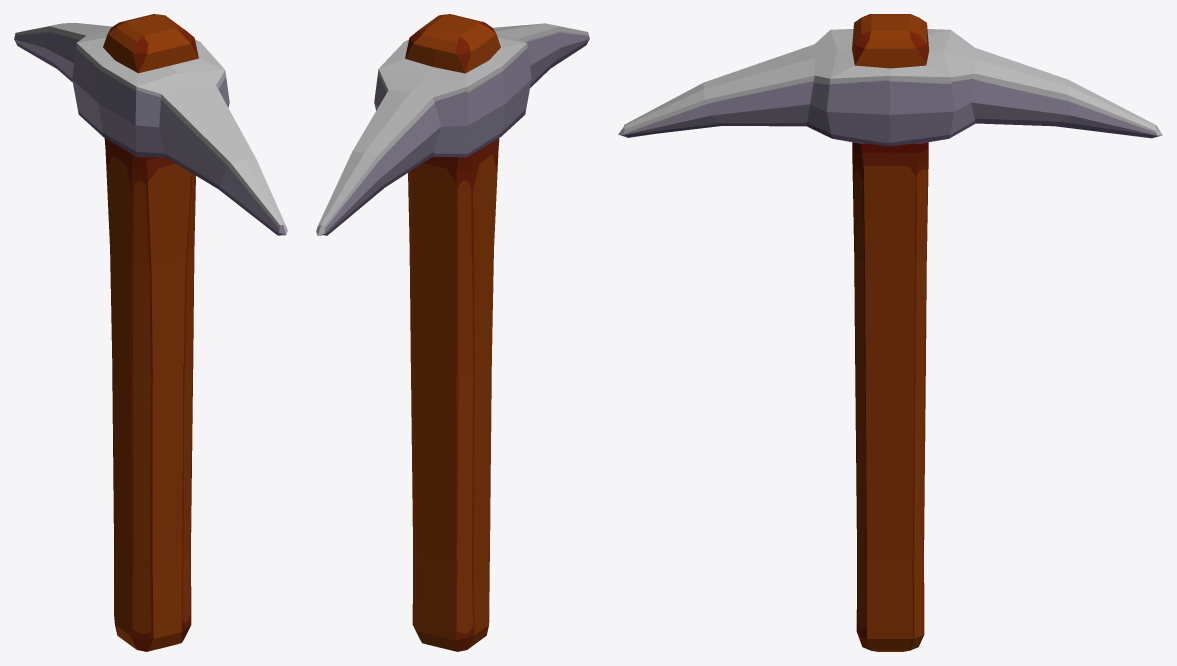
File: Pickaxe.fbx
The picture shows the model from 3 angles, left to right: view 1: azimuth 30°, elevation 25°; view 2: azimuth 150°, elevation 25°; view 3: azimuth 270°, elevation 25°; orthographic projection.
Visible parts, largest first — view 1: Pickaxe; view 2: Pickaxe; view 3: Pickaxe.
Boxes of the visible parts, <box> form: Pickaxe: <box>14,14,287,651</box>; Pickaxe: <box>316,14,589,651</box>; Pickaxe: <box>618,14,1162,651</box>.
Bounding box in the file's own units: 762 × 963 × 172.
